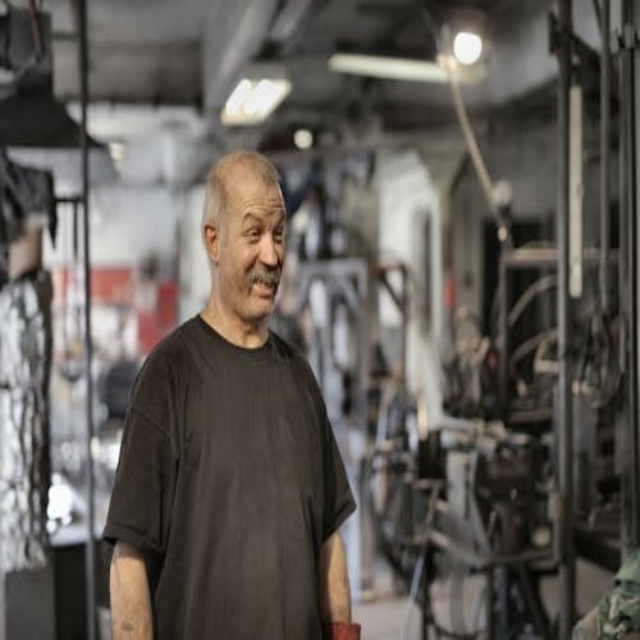Sin_gafas: (242, 217, 287, 246)
Sin_mascara: (251, 278, 277, 298)
